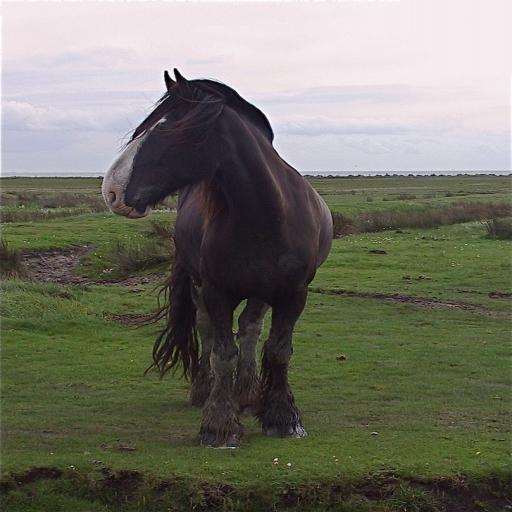horse: (102, 66, 334, 452)
